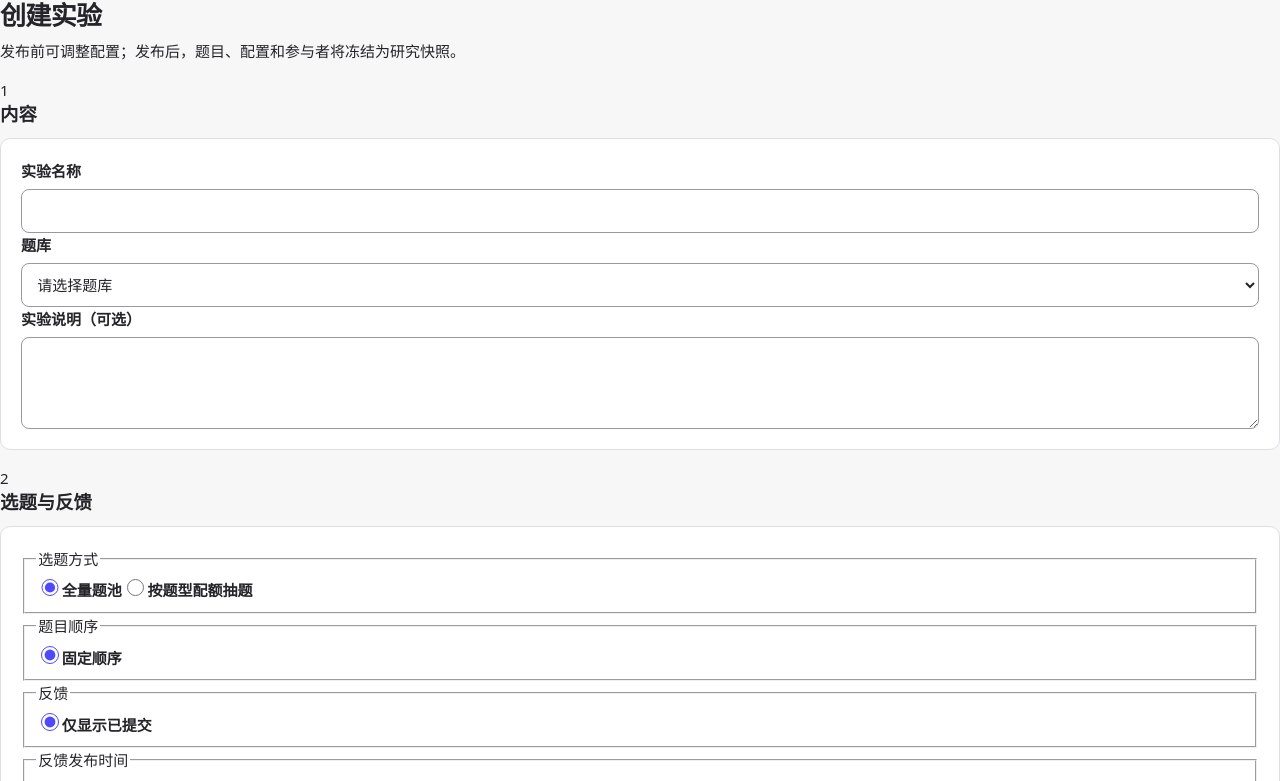
Test case: standalone experiment compatibility views › keeps the form editable after a server validation error
Select "独立题库" in the dropdown with id "standalone-experiment-bank" at (640, 285), box x1=21 y1=263 x2=1259 y2=307
(page scrolled)
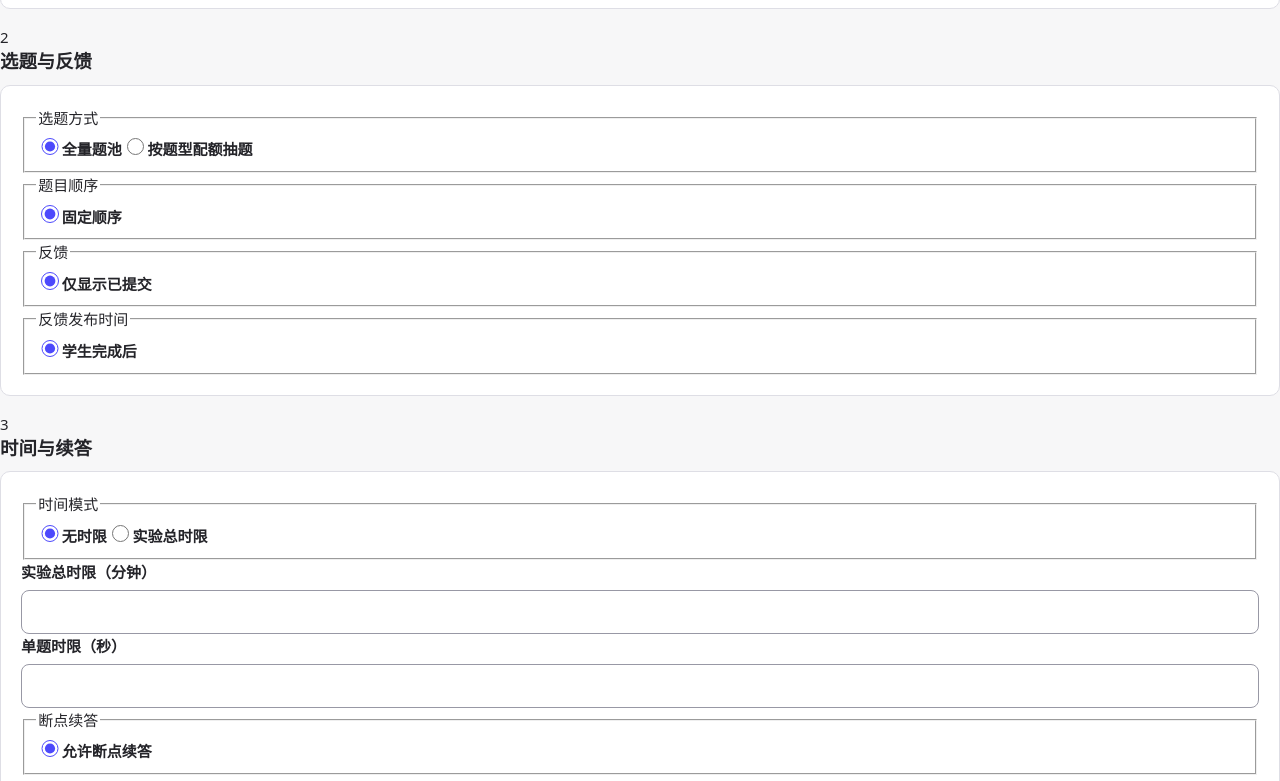
Submit the form
(page scrolled)
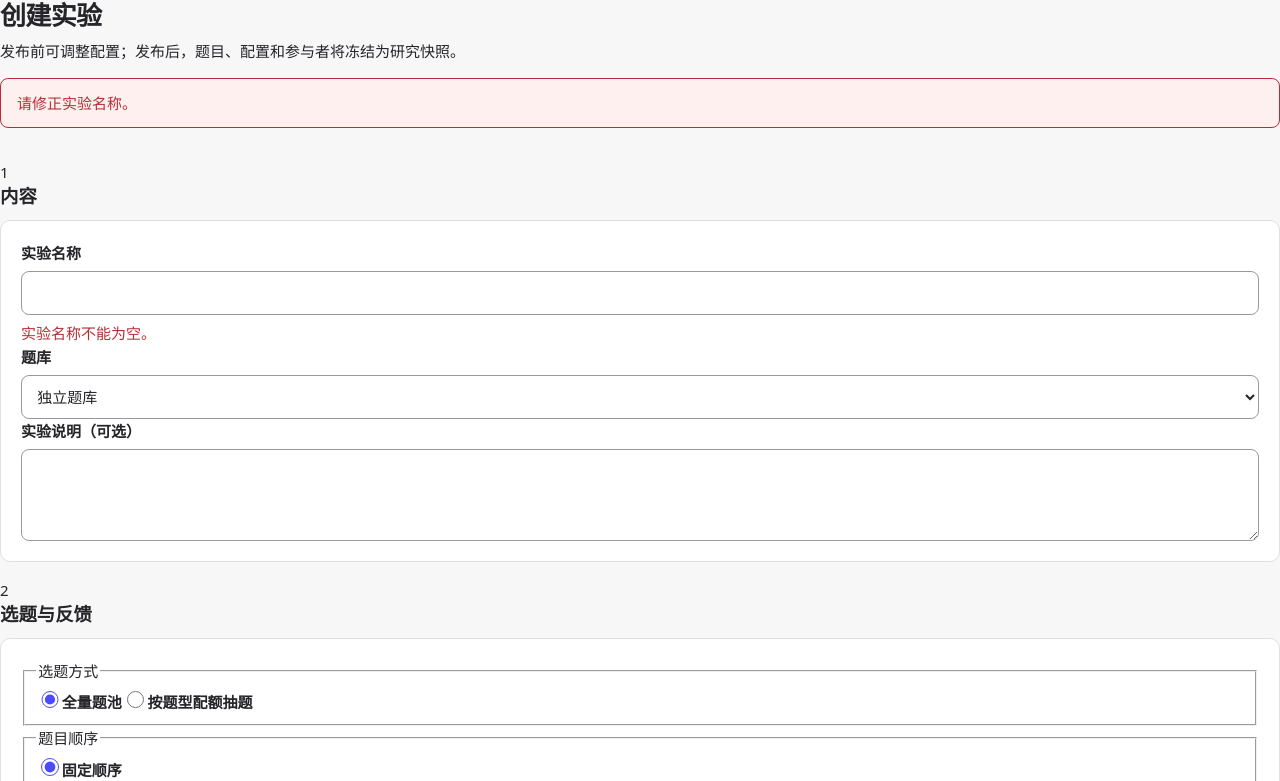
Now the text "实验名称不能为空。" is shown, box x1=21 y1=323 x2=156 y2=343
Now the text "请修正实验名称。" is shown, box x1=0 y1=78 x2=1279 y2=128
